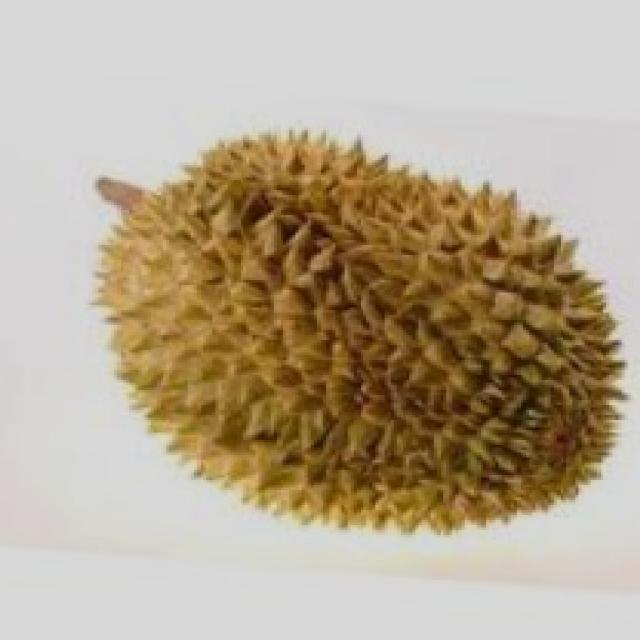fruit: (43, 177, 406, 595), (286, 165, 640, 590)
